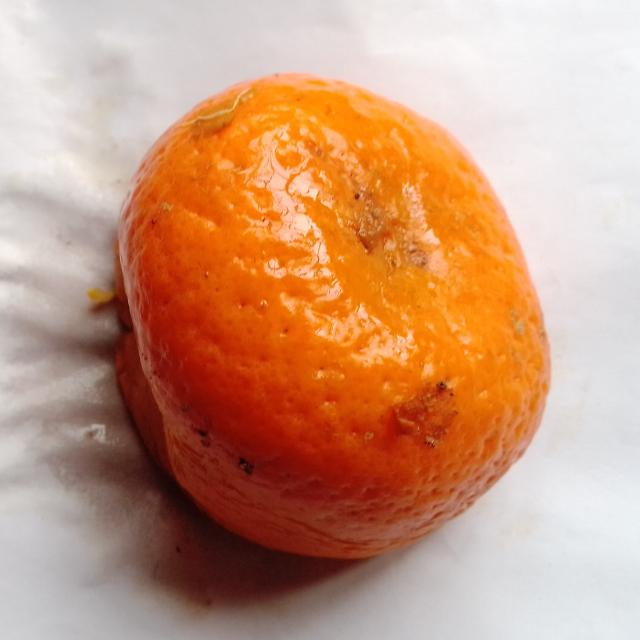orange: (118, 75, 549, 558)
